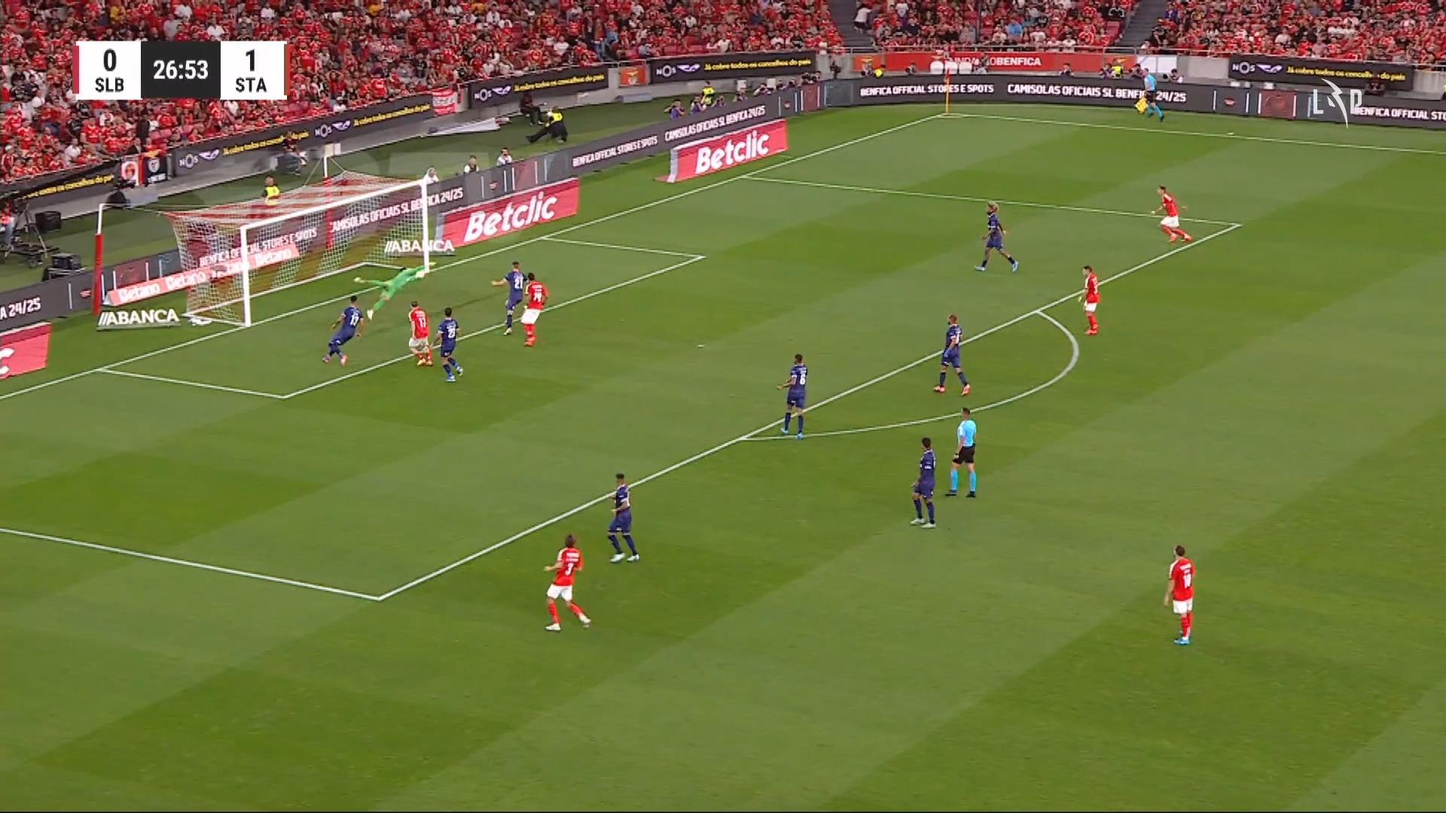goalkeeper: (352, 263, 429, 320)
player: (541, 533, 591, 631), (974, 200, 1019, 273), (932, 313, 971, 396), (1163, 544, 1195, 644), (321, 294, 365, 365), (606, 471, 639, 562), (776, 352, 808, 439), (490, 260, 526, 335), (909, 436, 937, 528), (1150, 184, 1192, 243), (433, 306, 463, 382), (519, 272, 548, 347), (407, 300, 433, 367), (1078, 264, 1100, 336)
referee: (944, 406, 978, 498), (1134, 66, 1164, 122)
